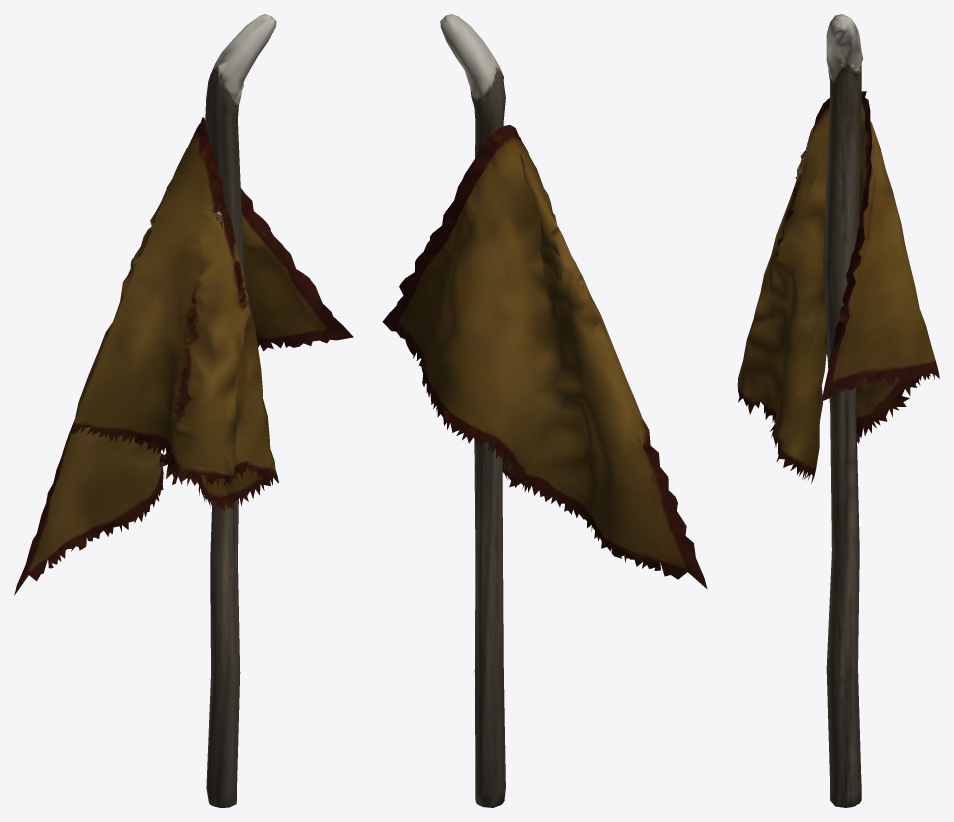
File: flag.glb
3 renders of one model, left to right at view 1: azimuth 30°, elevation 25°; view 2: azimuth 150°, elevation 25°; view 3: azimuth 270°, elevation 25°, orthographic. The views are drawn at different scales.
Visible parts, largest first — view 1: model; view 2: model; view 3: model.
Boxes of the visible parts, bbox=[...] form: model: bbox=[14, 14, 353, 807]; model: bbox=[382, 14, 707, 807]; model: bbox=[737, 14, 939, 807].
Size of the model in its own units: 0.4481 by 1 by 0.229.
1 material, 1 textured.
